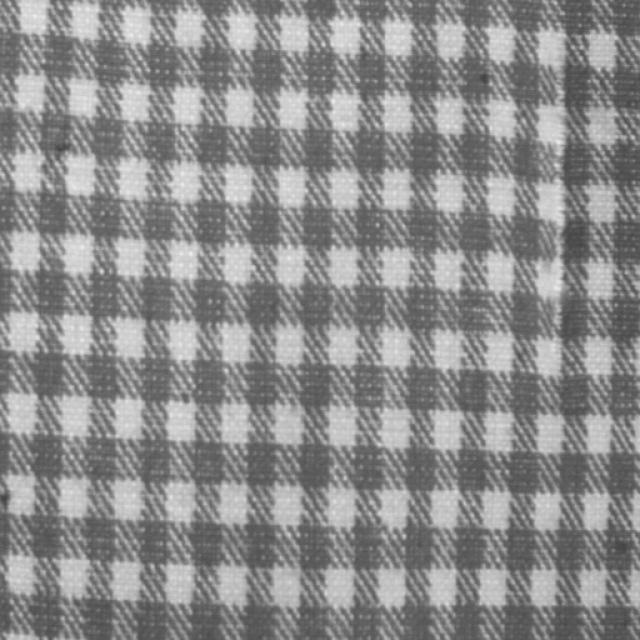Thread-Defect: (552, 27, 576, 378)
